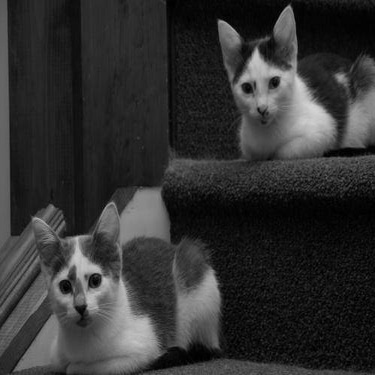cat: (28, 197, 223, 372), (214, 2, 369, 162)
